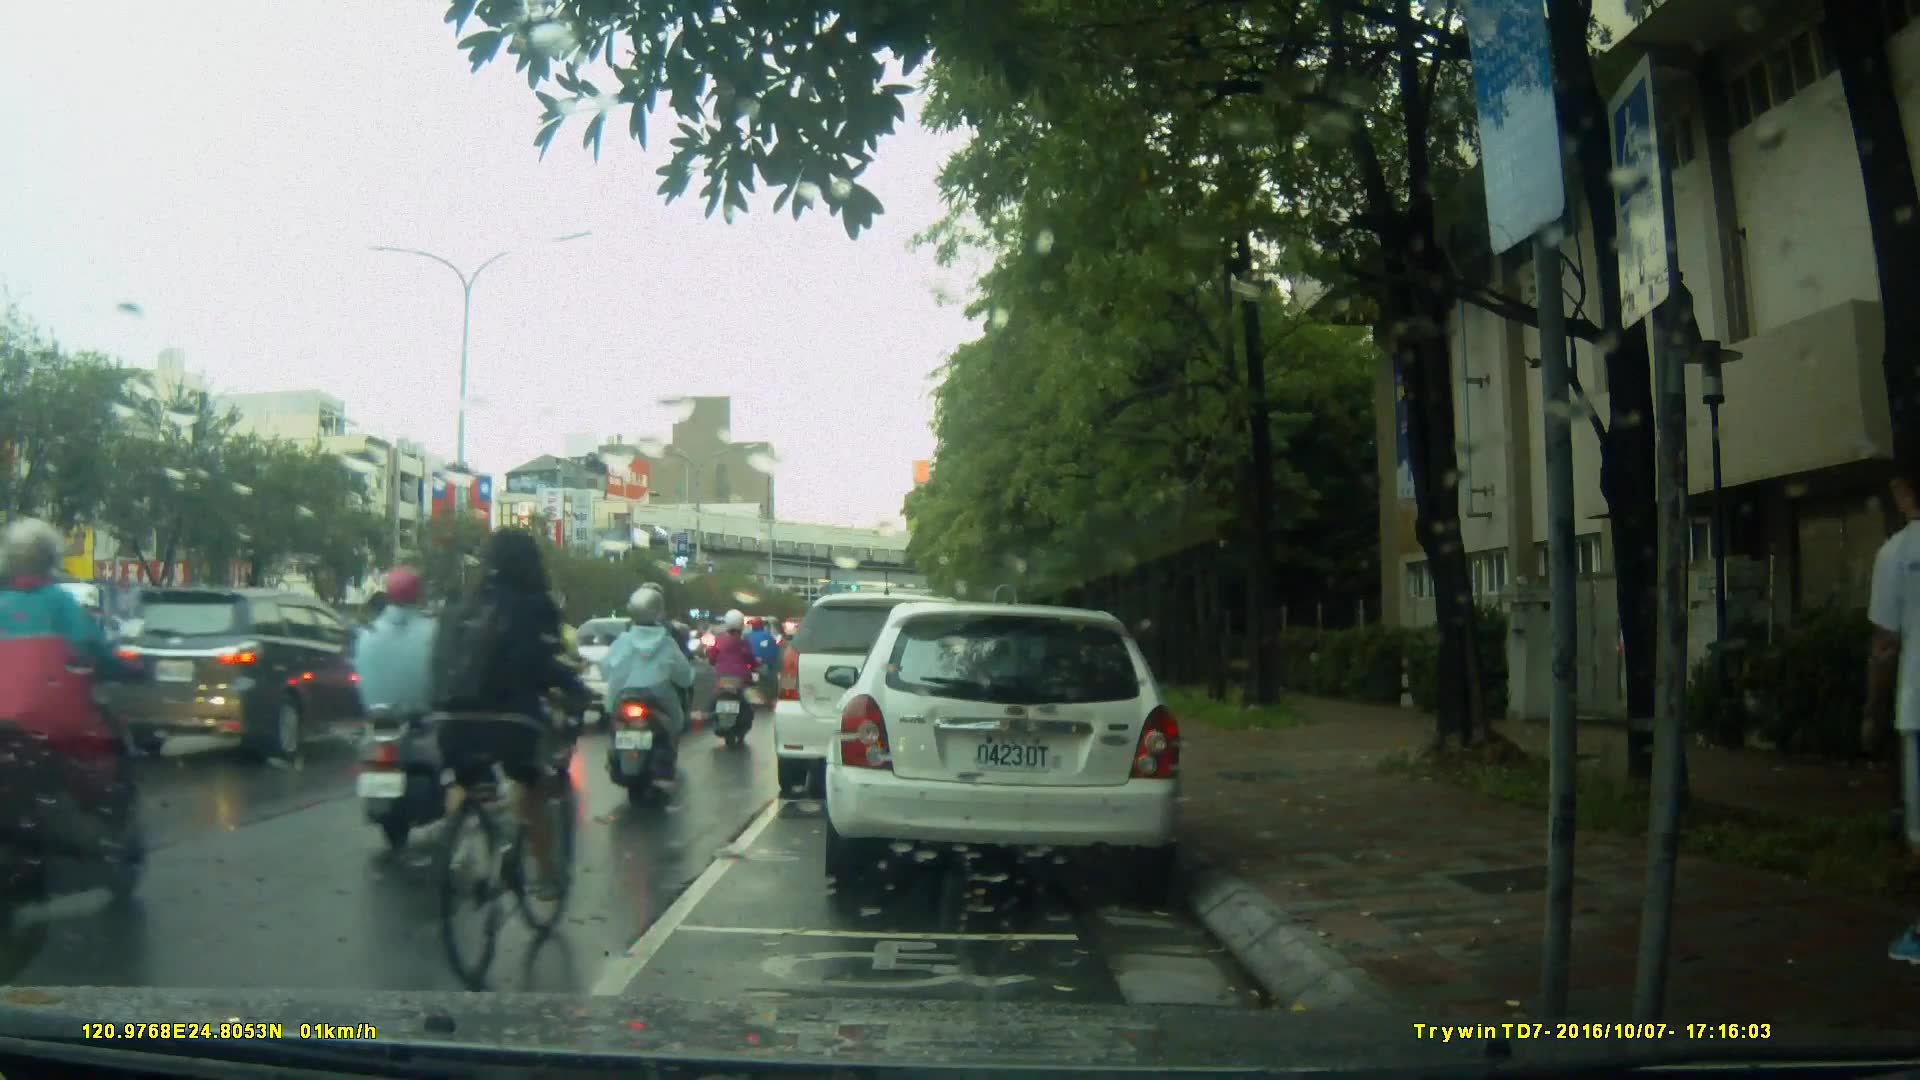pedestrian: (1843, 461, 1911, 983)
rider: (445, 524, 604, 961), (1, 506, 154, 912), (358, 562, 472, 864), (617, 585, 698, 799), (510, 590, 599, 783), (618, 585, 703, 774), (702, 615, 762, 755), (734, 610, 779, 690)
vehicle: (822, 604, 1188, 883), (90, 584, 401, 768), (774, 595, 995, 802)
